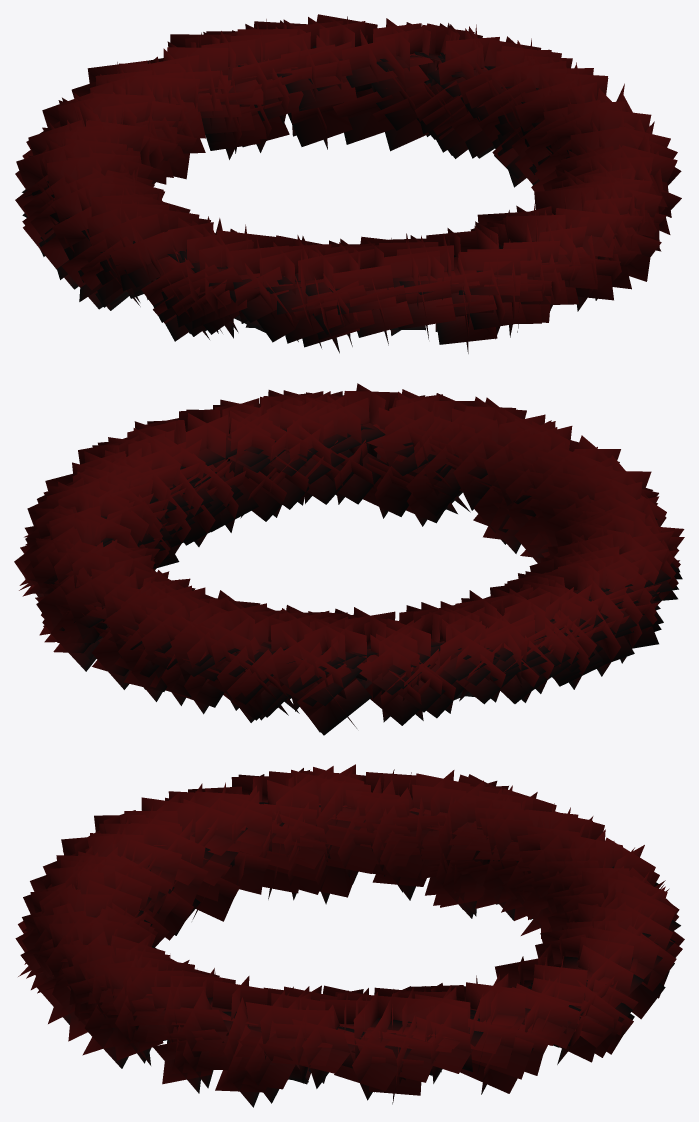
The model's file is HedgeFountain.fbx.
3 renders of one model, top to bottom at view 1: azimuth 30°, elevation 25°; view 2: azimuth 150°, elevation 25°; view 3: azimuth 270°, elevation 25°, orthographic.
Parts seen in each view (by area): view 1: HedgeFountain_LOD0; view 2: HedgeFountain_LOD0; view 3: HedgeFountain_LOD0.
Boxes of the visible parts, x1,y1,x2,y2 form: HedgeFountain_LOD0: [15, 14, 681, 353]; HedgeFountain_LOD0: [14, 383, 684, 735]; HedgeFountain_LOD0: [15, 764, 684, 1107].
Size of what is drawn, in the model's own units: 485 by 91.39 by 487.
